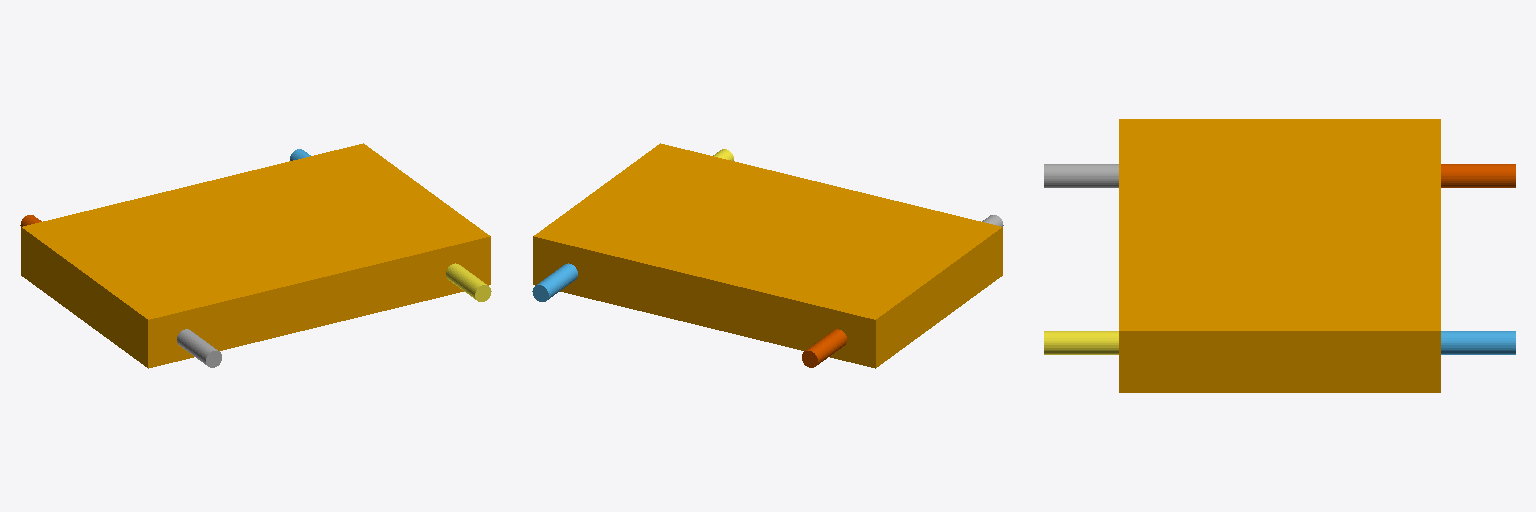
URDF robot description (holobot):
<?xml version="1.0" ?>
<!-- =================================================================================== -->
<!-- |    This document was autogenerated by xacro from holobot.xacro                  | -->
<!-- |    EDITING THIS FILE BY HAND IS NOT RECOMMENDED                                 | -->
<!-- =================================================================================== -->
<robot name="holobot" xmlns:xacro="http://www.ros.org/wiki/xacro">
  <!--chassis-->
  <!--TODO calculate inertia and mass-->
  <link name="base_link">
    <inertial>
      <mass value="1.0"/>
      <origin rpy="0 0 0" xyz="0 0 0.02667"/>
      <inertia ixx="0.0" ixy="0.0" ixz="0.0" iyy="0.0" iyz="0.0" izz="0.0"/>
    </inertial>
    <visual name="base_visual">
      <origin rpy="0 0 0" xyz="0 0 0.02667"/>
      <geometry name="holobot_geom">
        <box size="0.3556 0.2286 0.04826"/>
      </geometry>
    </visual>
    <collision>
      <origin rpy="0 0 0" xyz="0 0 5"/>
      <geometry>
        <box size="0.3556 0.2286 0.04826"/>
      </geometry>
    </collision>
  </link>
  <gazebo reference="base_link">
    <material>Gazebo/Black</material>
  </gazebo>
  <!--Front axles+wheels-->
  <!--TODO calculate friction of wheels, color the black rubbers-->
  <link name="holo_front_left_axle">
    <inertial>
      <mass value="0.1"/>
      <origin xyz="0 0 0"/>
      <inertia ixx="1" ixy="0" ixz="0" iyy="1" iyz="0" izz="1"/>
    </inertial>
    <visual name="base_visual">
      <origin rpy="-1.57079635 0 0" xyz="0 0 0"/>
      <geometry name="holo_geom">
        <cylinder length="0.0535" radius="0.0085"/>
      </geometry>
    </visual>
    <collision>
      <origin rpy="-1.57079635 0 0" xyz="0 0 0"/>
      <geometry>
        <box size="0 0 0"/>
      </geometry>
    </collision>
  </link>
  <gazebo reference="holo_front_left_axle">
    <material value="Gazebo/Grey"/>
  </gazebo>
  <joint name="base_front_left_axle_joint" type="fixed">
    <origin rpy="0 0 0" xyz="0.1397 0.1401 0.02413"/>
    <parent link="base_link"/>
    <child link="holo_front_left_axle"/>
  </joint>
  <link name="holo_front_left_wheel">
    <inertial>
      <mass value="0.5"/>
      <origin xyz="0 0 0"/>
      <inertia ixx="0.012" ixy="0" ixz="0" iyy="0.015" iyz="0" izz="0.01176"/>
    </inertial>
    <visual name="base_visual">
      <origin rpy="0 0 0" xyz="0 0 0"/>
      <geometry name="holo_geom">
        <mesh filename="package://simulate_holobot/meshes/wheel.stl" scale="0.001 0.001 0.001"/>
      </geometry>
    </visual>
    <collision>
      <origin rpy="-0.02667 0 0" xyz="0 0 0"/>
      <geometry>
        <mesh filename="package://simulate_holobot/meshes/wheel.stl" scale="0.001 0.001 0.001"/>
        <!--cylinder radius="0.111" lengt="0.075"/-->
      </geometry>
    </collision>
  </link>
  <gazebo reference="holo_front_left_wheel">
    <material value="Gazebo/Green"/>
  </gazebo>
  <joint name="holo_front_left_wheel_joint" type="continuous">
    <axis xyz="0 1 0"/>
    <anchor xyz="0 0 0"/>
    <origin rpy="0 0 0" xyz="0 -0.0210 0"/>
    <parent link="holo_front_left_axle"/>
    <child link="holo_front_left_wheel"/>
    <limit effort="100" velocity="100"/>
    <joint_properties damping="0.7"/>
  </joint>
  <gazebo reference="holo_front_left_wheel">
    <kp>1000000.0</kp>
    <!-- kp and kd for rubber -->
    <kd>100.0</kd>
    <mu1>10.0</mu1>
    <mu2>1.0</mu2>
    <fdir1>0 1 0</fdir1>
    <!-- is this correct? -->
    <maxVel>1.0</maxVel>
    <minDepth>0.00</minDepth>
  </gazebo>
  <link name="holo_front_right_axle">
    <inertial>
      <mass value="0.1"/>
      <origin xyz="0 0 0"/>
      <inertia ixx="1" ixy="0" ixz="0" iyy="1" iyz="0" izz="1"/>
    </inertial>
    <visual name="base_visual">
      <origin rpy="-1.57079635 3.1415927 0" xyz="0 0 0"/>
      <geometry name="holo_geom">
        <cylinder length="0.0535" radius="0.0085"/>
      </geometry>
    </visual>
    <collision>
      <origin rpy="-1.57079635 0 0" xyz="0 0 0"/>
      <geometry>
        <box size="0 0 0"/>
      </geometry>
    </collision>
  </link>
  <gazebo reference="holo_front_right_axle">
    <material value="Gazebo/Grey"/>
  </gazebo>
  <!--TODO calculate exact y joint value-->
  <joint name="base_front_right_axle_joint" type="fixed">
    <origin rpy="0 0 0" xyz="0.1397 -0.1401 0.02413"/>
    <parent link="base_link"/>
    <child link="holo_front_right_axle"/>
  </joint>
  <link name="holo_front_right_wheel">
    <inertial>
      <mass value="0.5"/>
      <origin xyz="0 0 0"/>
      <inertia ixx="0.012" ixy="0" ixz="0" iyy="0.015" iyz="0" izz="0.01176"/>
    </inertial>
    <visual name="base_visual">
      <origin rpy="0 0 0" xyz="0 0 0"/>
      <geometry name="holo_geom">
        <mesh filename="package://simulate_holobot/meshes/wheel.stl" scale="0.001 0.001 0.001"/>
      </geometry>
    </visual>
    <collision>
      <origin rpy="-0.02667 0 0" xyz="0 0 0"/>
      <geometry>
        <mesh filename="package://simulate_holobot/meshes/wheel.stl" scale="0.001 0.001 0.001"/>
        <!--cylinder radius="0.111" lengt="0.075"/-->
      </geometry>
    </collision>
  </link>
  <gazebo reference="holo_front_right_wheel">
    <material value="Gazebo/Green"/>
  </gazebo>
  <joint name="holo_front_right_wheel_joint" type="continuous">
    <axis xyz="0 1 0"/>
    <anchor xyz="0 0 0"/>
    <origin rpy="0 0 0" xyz="0 -0.02500 0"/>
    <parent link="holo_front_right_axle"/>
    <child link="holo_front_right_wheel"/>
    <limit effort="100" velocity="100"/>
    <joint_properties damping="0.7"/>
  </joint>
  <gazebo reference="holo_front_right_wheel">
    <kp>1000000.0</kp>
    <!-- kp and kd for rubber -->
    <kd>100.0</kd>
    <mu1>10.0</mu1>
    <mu2>1.0</mu2>
    <fdir1>0 1 0</fdir1>
    <!-- is this correct? -->
    <maxVel>1.0</maxVel>
    <minDepth>0.00</minDepth>
  </gazebo>
  <!---Back axle+wheel-->
  <!--TODO check friction value,position of wheels-->
  <link name="holo_back_left_axle">
    <inertial>
      <mass value="0.1"/>
      <origin xyz="0 0 0"/>
      <inertia ixx="1" ixy="0" ixz="0" iyy="1" iyz="0" izz="1"/>
    </inertial>
    <visual name="base_visual">
      <origin rpy="-1.57079635 0 0" xyz="0 0 0"/>
      <geometry name="holo_geom">
        <cylinder length="0.0535" radius="0.0085"/>
      </geometry>
    </visual>
    <collision>
      <origin rpy="-1.57079635 0 0" xyz="0 0 0"/>
      <geometry>
        <box size="0 0 0"/>
      </geometry>
    </collision>
  </link>
  <gazebo reference="holo_back_left_axle">
    <material value="Gazebo/Grey"/>
  </gazebo>
  <joint name="base_back_left_axle_joint" type="fixed">
    <origin rpy="0 0 0" xyz="-0.1397 0.1401 0.02413"/>
    <parent link="base_link"/>
    <child link="holo_back_left_axle"/>
  </joint>
  <link name="holo_back_left_wheel">
    <inertial>
      <mass value="0.5"/>
      <origin xyz="0 0 0"/>
      <inertia ixx="0.012" ixy="0" ixz="0" iyy="0.015" iyz="0" izz="0.01176"/>
    </inertial>
    <visual name="base_visual">
      <origin rpy="0 0 0" xyz="0 0 0"/>
      <geometry name="holo_geom">
        <mesh filename="package://simulate_holobot/meshes/wheel.stl" scale="0.001 0.001 0.001"/>
      </geometry>
    </visual>
    <collision>
      <origin rpy="-0.02667 0 0" xyz="0 0 0"/>
      <geometry>
        <mesh filename="package://simulate_holobot/meshes/wheel.stl" scale="0.001 0.001 0.001"/>
        <!--cylinder radius="0.111" lengt="0.075"/-->
      </geometry>
    </collision>
  </link>
  <gazebo reference="holo_back_left_wheel">
    <material value="Gazebo/Green"/>
  </gazebo>
  <joint name="holo_back_left_wheel_joint" type="continuous">
    <axis xyz="0 1 0"/>
    <anchor xyz="0 0 0"/>
    <origin rpy="0 0 0" xyz="0 -0.021 0"/>
    <parent link="holo_back_left_axle"/>
    <child link="holo_back_left_wheel"/>
    <limit effort="100" velocity="100"/>
    <joint_properties damping="0.7"/>
  </joint>
  <gazebo reference="holo_back_left_wheel">
    <kp>1000000.0</kp>
    <!-- kp and kd for rubber -->
    <kd>100.0</kd>
    <mu1>10.0</mu1>
    <mu2>1.0</mu2>
    <fdir1>0 1 0</fdir1>
    <!-- is this correct? -->
    <maxVel>1.0</maxVel>
    <minDepth>0.00</minDepth>
  </gazebo>
  <link name="holo_back_right_axle">
    <inertial>
      <mass value="0.1"/>
      <origin xyz="0 0 0"/>
      <inertia ixx="1" ixy="0" ixz="0" iyy="1" iyz="0" izz="1"/>
    </inertial>
    <visual name="base_visual">
      <origin rpy="-1.57079635 3.1415927 0" xyz="0 0 0"/>
      <geometry name="holo_geom">
        <cylinder length="0.0535" radius="0.0085"/>
      </geometry>
    </visual>
    <collision>
      <origin rpy="-1.57079635 0 0" xyz="0 0 0"/>
      <geometry>
        <box size="0 0 0"/>
      </geometry>
    </collision>
  </link>
  <gazebo reference="holo_back_right_axle">
    <material value="Gazebo/Grey"/>
  </gazebo>
  <!--TODO calculate exact y joint value-->
  <joint name="base_back_right_axle_joint" type="fixed">
    <origin rpy="0 0 0" xyz="-0.1397 -0.1401 0.02413"/>
    <parent link="base_link"/>
    <child link="holo_back_right_axle"/>
  </joint>
  <link name="holo_back_right_wheel">
    <inertial>
      <mass value="0.5"/>
      <origin xyz="0 0 0"/>
      <inertia ixx="0.012" ixy="0" ixz="0" iyy="0.015" iyz="0" izz="0.01176"/>
    </inertial>
    <visual name="base_visual">
      <origin rpy="0 0 0" xyz="0 0 0"/>
      <geometry name="holo_geom">
        <mesh filename="package://simulate_holobot/meshes/wheel.stl" scale="0.001 0.001 0.001"/>
      </geometry>
    </visual>
    <collision>
      <origin rpy="-0.02667 0 0" xyz="0 0 0"/>
      <geometry>
        <mesh filename="package://simulate_holobot/meshes/wheel.stl" scale="0.001 0.001 0.001"/>
        <!--cylinder radius="0.111" lengt="0.075"/-->
      </geometry>
    </collision>
  </link>
  <gazebo reference="holo_back_right_wheel">
    <material value="Gazebo/Green"/>
  </gazebo>
  <joint name="holo_back_right_wheel_joint" type="continuous">
    <axis xyz="0 1 0"/>
    <anchor xyz="0 0 0"/>
    <origin rpy="0 0 0" xyz="0 -0.02500 0"/>
    <parent link="holo_back_right_axle"/>
    <child link="holo_back_right_wheel"/>
    <limit effort="100" velocity="100"/>
    <joint_properties damping="0.7"/>
  </joint>
  <gazebo reference="holo_back_right_wheel">
    <kp>1000000.0</kp>
    <!-- kp and kd for rubber -->
    <kd>100.0</kd>
    <mu1>10.0</mu1>
    <mu2>1.0</mu2>
    <fdir1>0 1 0</fdir1>
    <!-- is this correct? -->
    <maxVel>1.0</maxVel>
    <minDepth>0.00</minDepth>
  </gazebo>
</robot>

--- Facts derived from the render (not from the file) ---
The picture shows the robot from 3 angles, left to right: view 1: azimuth 30°, elevation 25°; view 2: azimuth 150°, elevation 25°; view 3: azimuth 270°, elevation 25°; orthographic projection.
Model holobot with 9 links and 8 joints (4 continuous, 4 fixed), rooted at base_link, posed every joint at zero.
Links seen in each view (by area): view 1: base_link, holo_back_right_axle, holo_front_right_axle; view 2: base_link, holo_back_left_axle, holo_front_left_axle; view 3: base_link, holo_front_left_axle, holo_front_right_axle, holo_back_left_axle, holo_back_right_axle.
Boxes of the visible links, box(x1,y1,x2,y2) form: base_link: box(21, 143, 490, 368); holo_back_right_axle: box(177, 329, 221, 367); holo_front_right_axle: box(446, 263, 491, 301); base_link: box(533, 143, 1002, 368); holo_back_left_axle: box(802, 329, 846, 367); holo_front_left_axle: box(532, 263, 577, 301); base_link: box(1119, 119, 1440, 392); holo_front_left_axle: box(1441, 331, 1515, 354); holo_front_right_axle: box(1044, 331, 1118, 354); holo_back_left_axle: box(1441, 164, 1515, 187); holo_back_right_axle: box(1044, 164, 1118, 187).
Size in the robot's own frame: 0.3556 by 0.3337 by 0.0483 metres.
0 mesh visuals loaded from 1 distinct referenced files (none loaded); not drawn: 4 (reference not matched to a file when rendering).